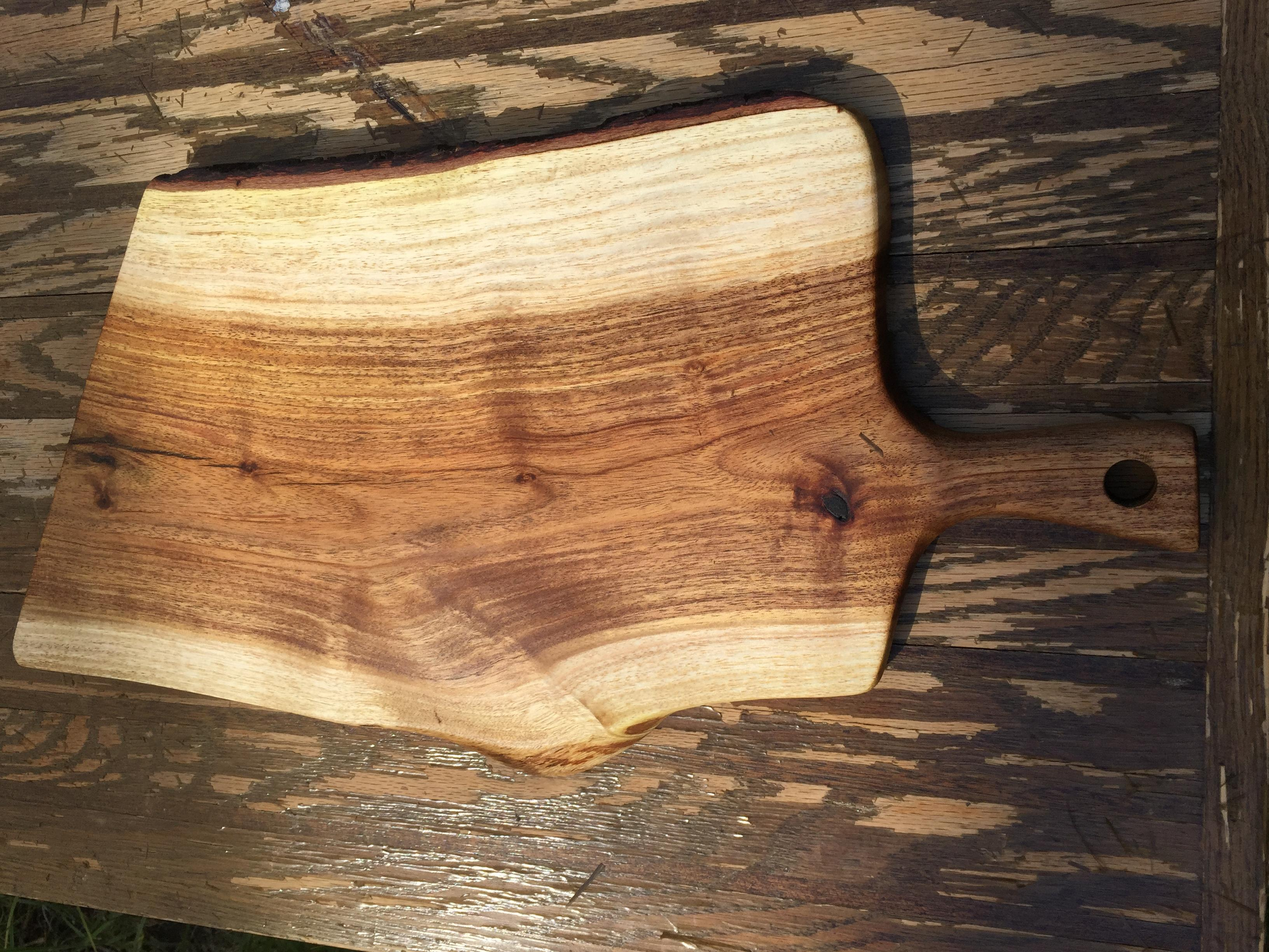gloved_hand: (70, 183, 1261, 865)
